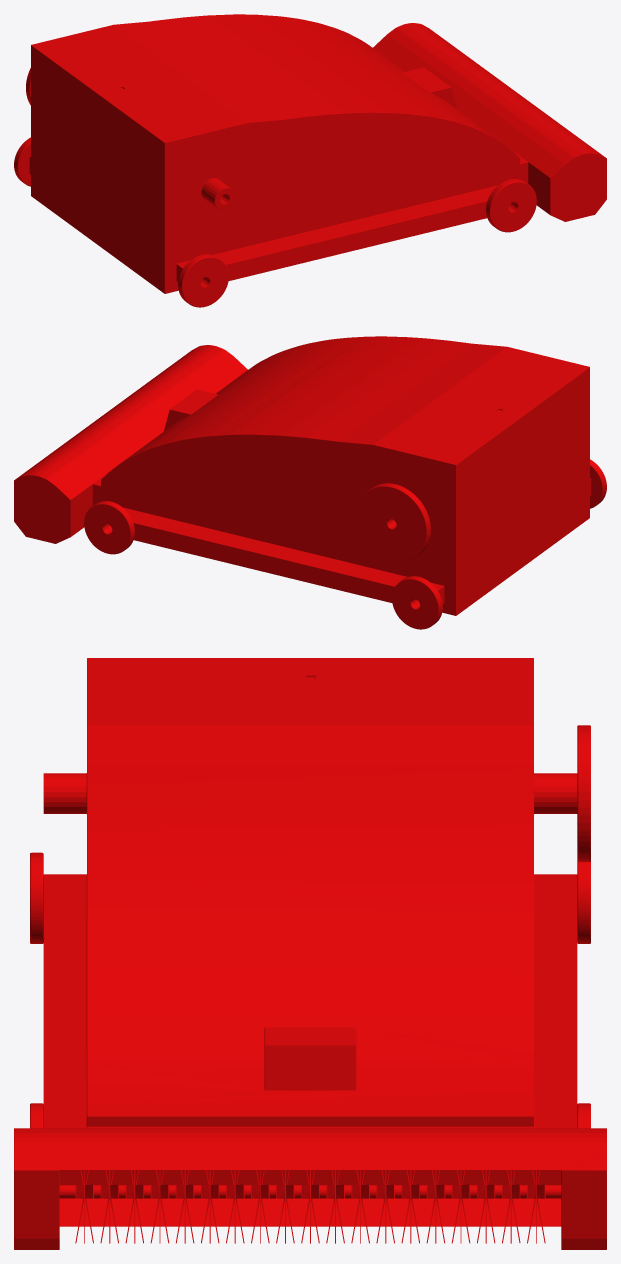
3 views of the same model, one above another, from view 1: azimuth 30°, elevation 25°; view 2: azimuth 150°, elevation 25°; view 3: azimuth 270°, elevation 25° (orthographic). The views are drawn at different scales.
Parts seen in each view (by area): view 1: chassis_link; view 2: chassis_link; view 3: chassis_link.
Part boxes in pixels (bbox=[...]): chassis_link: bbox=[14, 14, 606, 307]; chassis_link: bbox=[14, 336, 606, 629]; chassis_link: bbox=[14, 658, 606, 1249].
Size of the model in its own units: 1.78 by 1.3 by 0.635.
